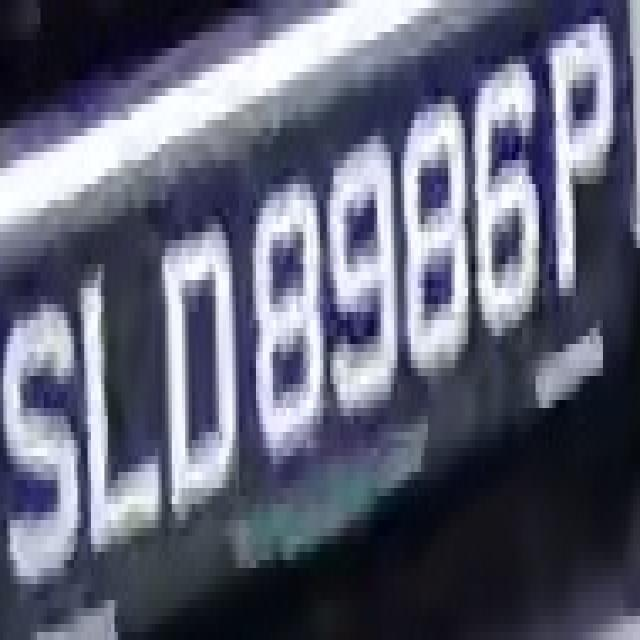6: (468, 48, 549, 360)
8: (242, 160, 324, 472), (401, 80, 475, 400)
9: (317, 128, 404, 480)
D: (155, 192, 236, 544)
L: (64, 232, 165, 568)
P: (539, 16, 623, 304)
S: (13, 280, 78, 616)
